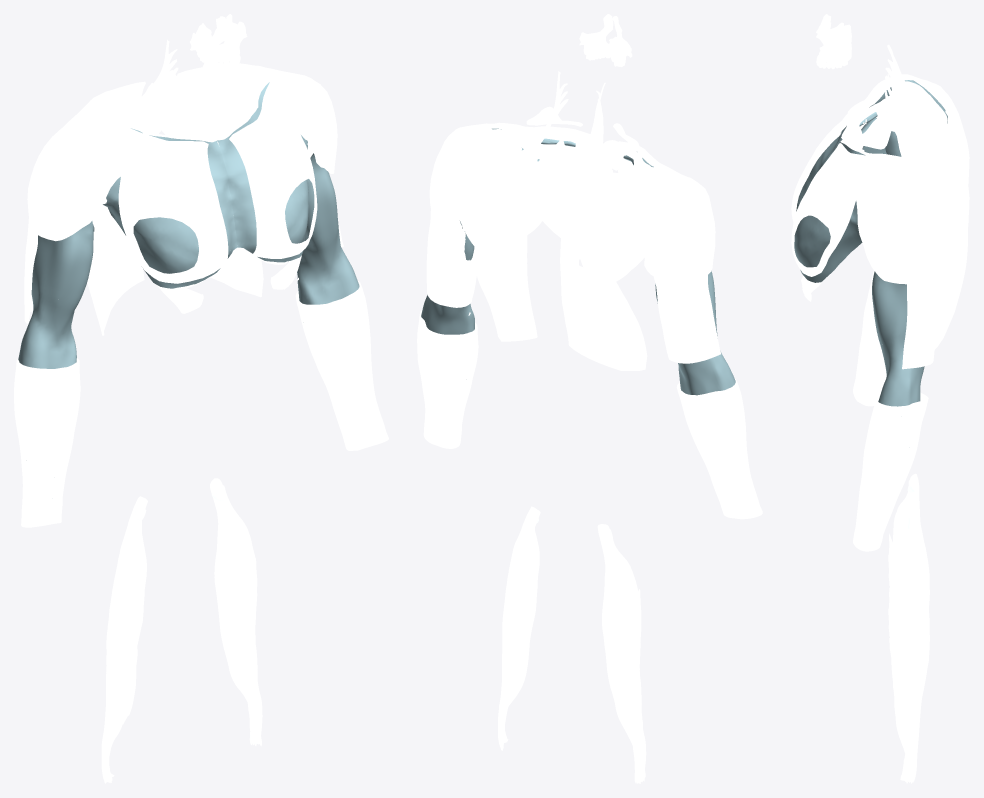
Rendered from zanatomy_full_brachial.glb.
3 views of the same model, side by side, from view 1: azimuth 30°, elevation 25°; view 2: azimuth 150°, elevation 25°; view 3: azimuth 270°, elevation 25° (orthographic). The views are drawn at different scales.
Parts seen in each view (by area): view 1: Pectoral region.r, Deltoid region.r, Anterior region of forearm.l, Anterior region of forearm.r, Pectoral region.l, Pectoral fascia.r, Long head of biceps femoris.l, Brachial fascia.r, Long head of biceps femoris.r, Infrascapular region.r, Pectoral fascia.l, Deltoid region.l (+18 smaller); view 2: Scapular region.r, Long head of biceps femoris.r, Infrascapular region.r, Posterior region of arm.r, Posterior region of forearm.r, Scapular region.l, Long head of biceps femoris.l, Deltoid region.r, Posterior region of forearm.l, Posterior region of arm.l, Infrascapular region.l, Interscapular region.l (+10 smaller); view 3: Deltoid region.l, Long head of biceps femoris.l, Pectoral region.l, Posterior region of arm.l, Posterior region of forearm.l, Pectoral fascia.l, Anterior region of forearm.l, Brachial fascia.l, Scapular region.l, Anterior region of forearm.r, Long head of biceps femoris.r, Antebrachial fascia.l (+20 smaller).
Part boxes in pixels (x1,y1,x2,y2): Pectoral region.r: (118,149,228,283); Deltoid region.r: (27,106,113,241); Anterior region of forearm.l: (300,282,388,450); Anterior region of forearm.r: (19,358,80,527); Pectoral region.l: (239,114,317,258); Pectoral fascia.r: (103,135,237,288); Long head of biceps femoris.l: (210,479,262,746); Brachial fascia.r: (31,221,94,335); Long head of biceps femoris.r: (101,498,147,783); Infrascapular region.r: (87,209,144,335); Pectoral fascia.l: (217,107,308,262); Deltoid region.l: (252,65,337,173); Scapular region.r: (574,171,663,288); Long head of biceps femoris.r: (597,524,646,783); Infrascapular region.r: (560,272,647,370); Posterior region of arm.r: (644,233,720,363); Posterior region of forearm.r: (676,383,762,519); Scapular region.l: (443,138,512,262); Long head of biceps femoris.l: (498,506,540,750); Deltoid region.r: (637,161,715,275); Posterior region of forearm.l: (417,311,472,448); Posterior region of arm.l: (426,180,476,307); Infrascapular region.l: (475,248,537,341); Interscapular region.l: (498,148,538,263); Deltoid region.l: (857,158,946,284); Long head of biceps femoris.l: (892,509,929,783); Pectoral region.l: (791,157,865,276); Posterior region of arm.l: (902,222,952,369); Posterior region of forearm.l: (863,392,928,551); Pectoral fascia.l: (794,142,865,282); Anterior region of forearm.l: (853,390,891,550); Brachial fascia.l: (872,271,924,371); Scapular region.l: (932,142,969,257); Anterior region of forearm.r: (853,270,881,405); Long head of biceps femoris.r: (892,473,929,609); Antebrachial fascia.l: (878,359,924,406).
Size of the model in its own units: 0.5917 by 1.21 by 0.2665.
